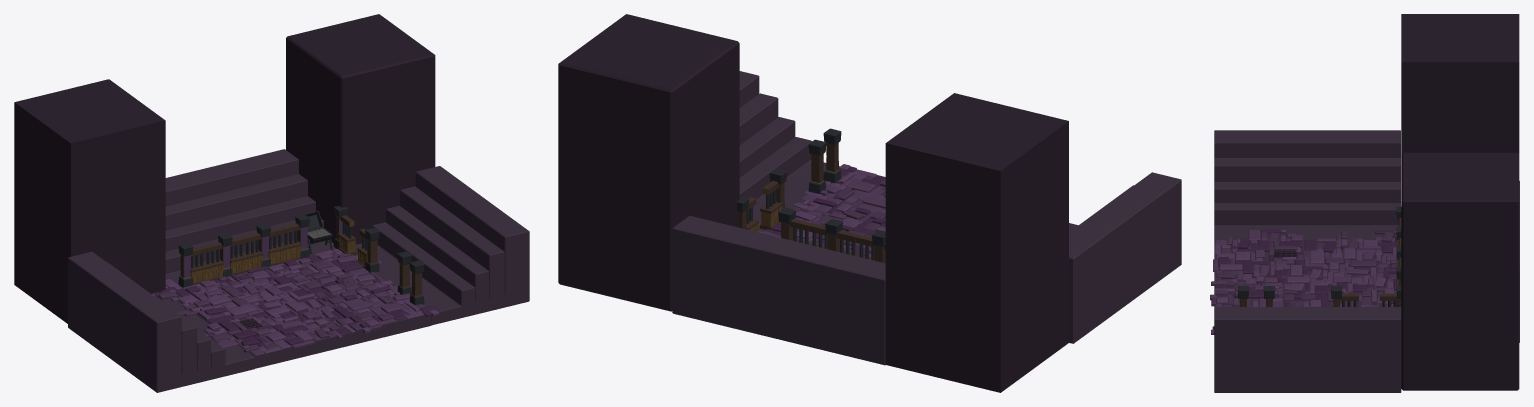
File: Map.fbx
The picture shows the model from 3 angles, left to right: view 1: azimuth 30°, elevation 25°; view 2: azimuth 150°, elevation 25°; view 3: azimuth 270°, elevation 25°; orthographic projection. The views are drawn at different scales.
Parts seen in each view (by area): view 1: pCube390, pCube389, pCube386, pCube388, pCube387, pCube17, polySurface21, polySurface18, pCube409, polySurface20, pCube304, pCube393; view 2: pCube390, pCube389, pCube387, pCube388, pCube386, pCube536; view 3: pCube389, pCube388, pCube390, pCube386, pCube17.
Boxes of the visible parts, left/top/right/bottom form: pCube390: left=14, top=79, right=165, bottom=323; pCube389: left=286, top=14, right=435, bottom=244; pCube386: left=353, top=166, right=529, bottom=325; pCube388: left=68, top=251, right=254, bottom=392; pCube387: left=165, top=149, right=336, bottom=285; pCube17: left=172, top=250, right=431, bottom=368; polySurface21: left=178, top=242, right=193, bottom=287; polySurface18: left=295, top=214, right=309, bottom=258; pCube409: left=203, top=242, right=223, bottom=280; polySurface20: left=218, top=233, right=232, bottom=277; pCube304: left=338, top=215, right=356, bottom=255; pCube393: left=281, top=223, right=301, bottom=260; pCube390: left=885, top=93, right=1068, bottom=392; pCube389: left=558, top=14, right=739, bottom=311; pCube387: left=672, top=215, right=885, bottom=365; pCube388: left=1069, top=172, right=1181, bottom=343; pCube386: left=739, top=71, right=839, bottom=231; pCube536: left=760, top=181, right=782, bottom=229; pCube389: left=1401, top=152, right=1519, bottom=390; pCube388: left=1214, top=130, right=1400, bottom=240; pCube390: left=1401, top=14, right=1519, bottom=153; pCube386: left=1214, top=307, right=1401, bottom=392; pCube17: left=1214, top=240, right=1394, bottom=306.
Bounding box in the file's own units: 208 × 105 × 143.
